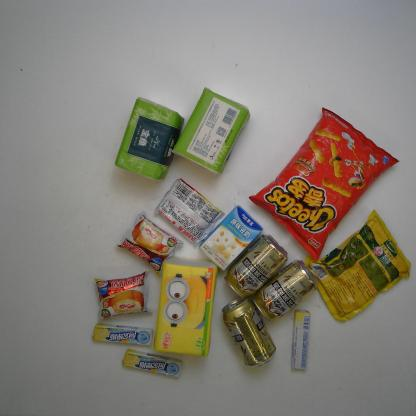Alcohol: (224, 234, 288, 299), (221, 297, 277, 368), (252, 259, 316, 321)
Candy: (121, 348, 182, 378), (90, 324, 153, 346), (290, 309, 310, 370)
Dessert: (154, 177, 225, 247), (116, 210, 184, 276), (93, 271, 153, 322)
Milk: (198, 205, 264, 271)
Puffed Food: (249, 107, 400, 261)
Seasoner: (305, 209, 411, 322)
Tissue: (171, 86, 251, 176), (153, 256, 218, 357), (114, 96, 185, 181)
